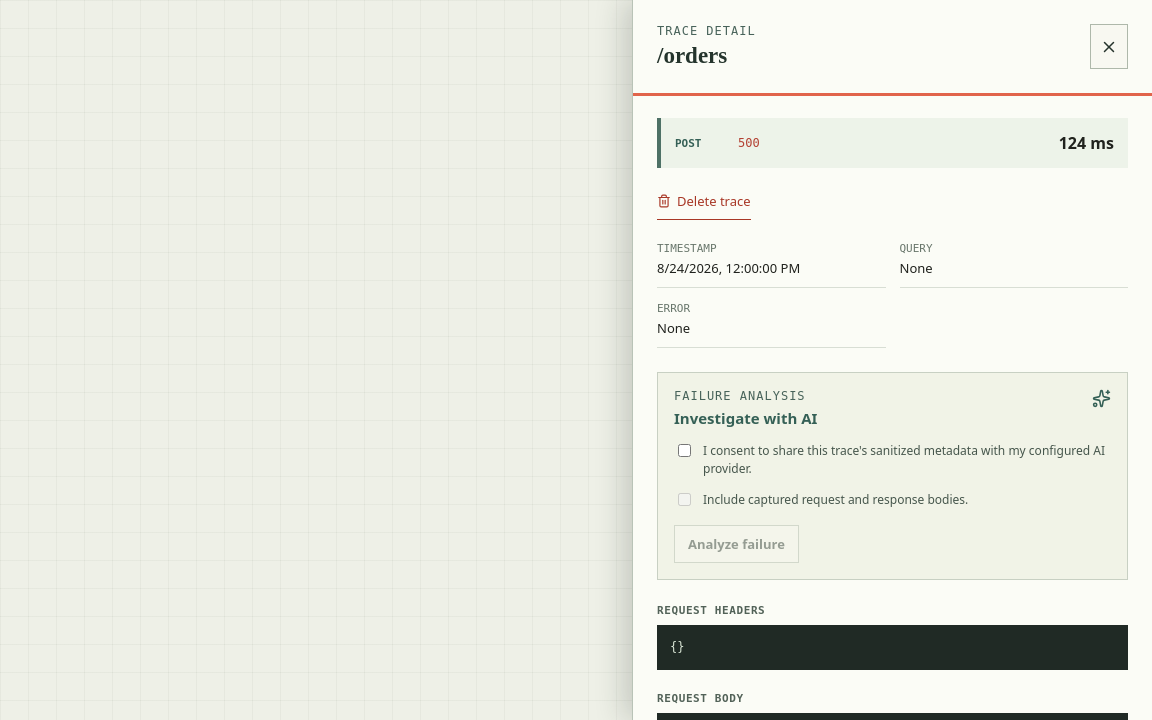
Test: TraceDetail failure analysis › renders the sanitized provider error
The image size is (1152, 720).
Click the checkbox labelled "I consent to share this trace's sanitized metadata" at (684, 451), box [678,444,691,457]
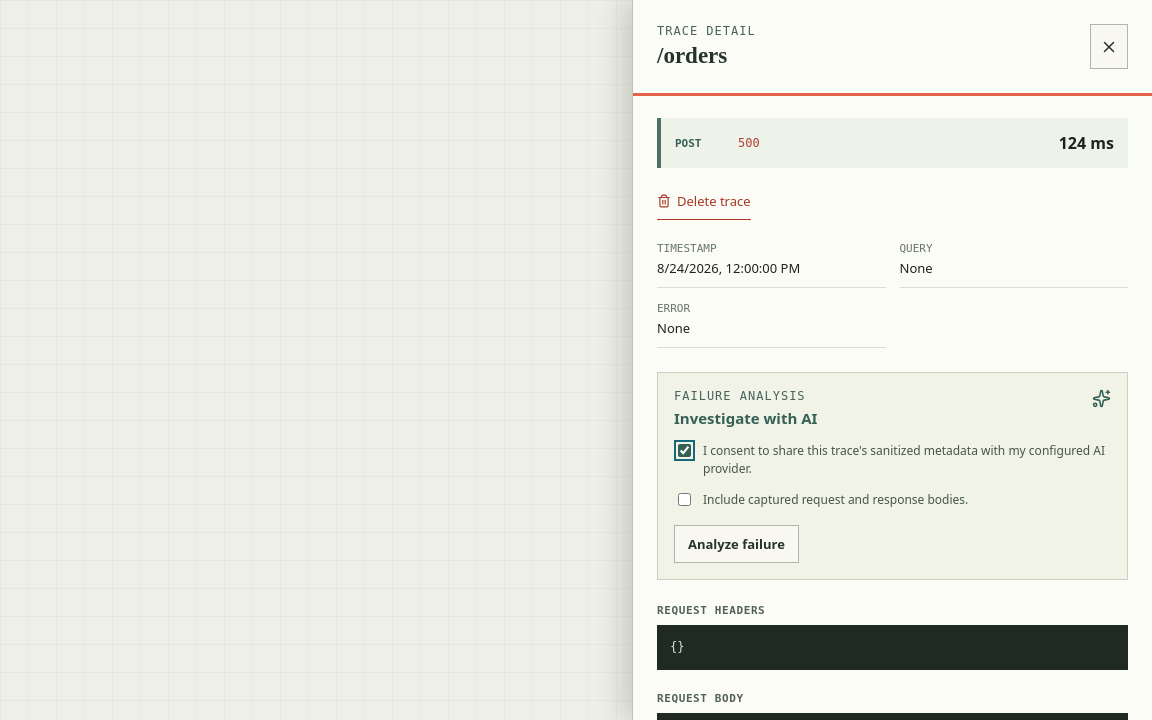
Click the button "Analyze failure" at (736, 544), box [674,525,799,563]
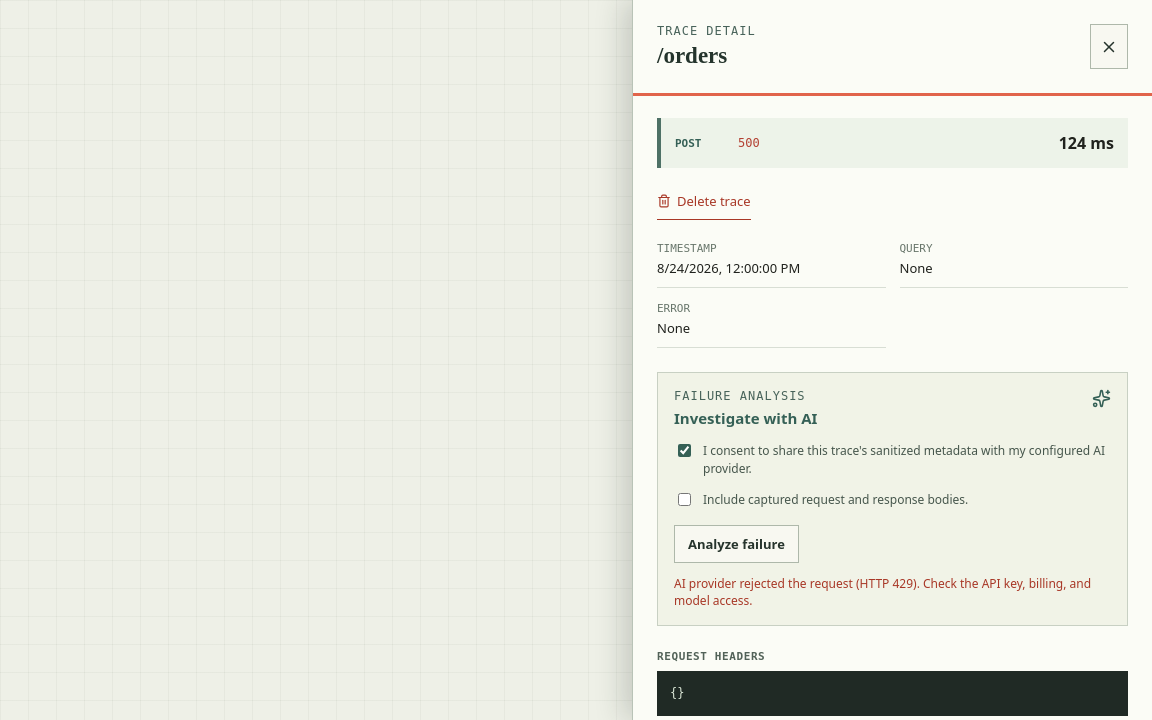
Result: the text "AI provider rejected the request (HTTP 429). Check the API key, billing, and model access." is shown at [674,575,1091,609]
